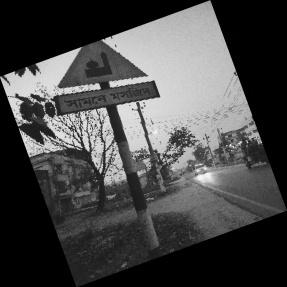Mosque in front: (55, 39, 158, 115)
